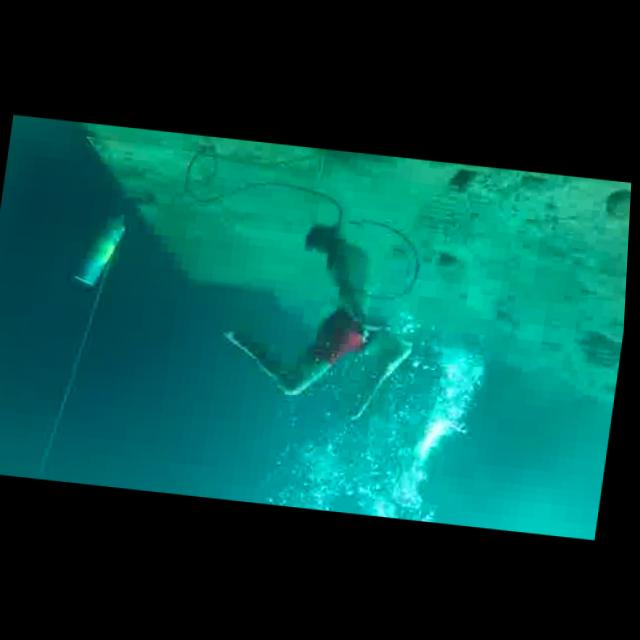human: (207, 204, 440, 434)
